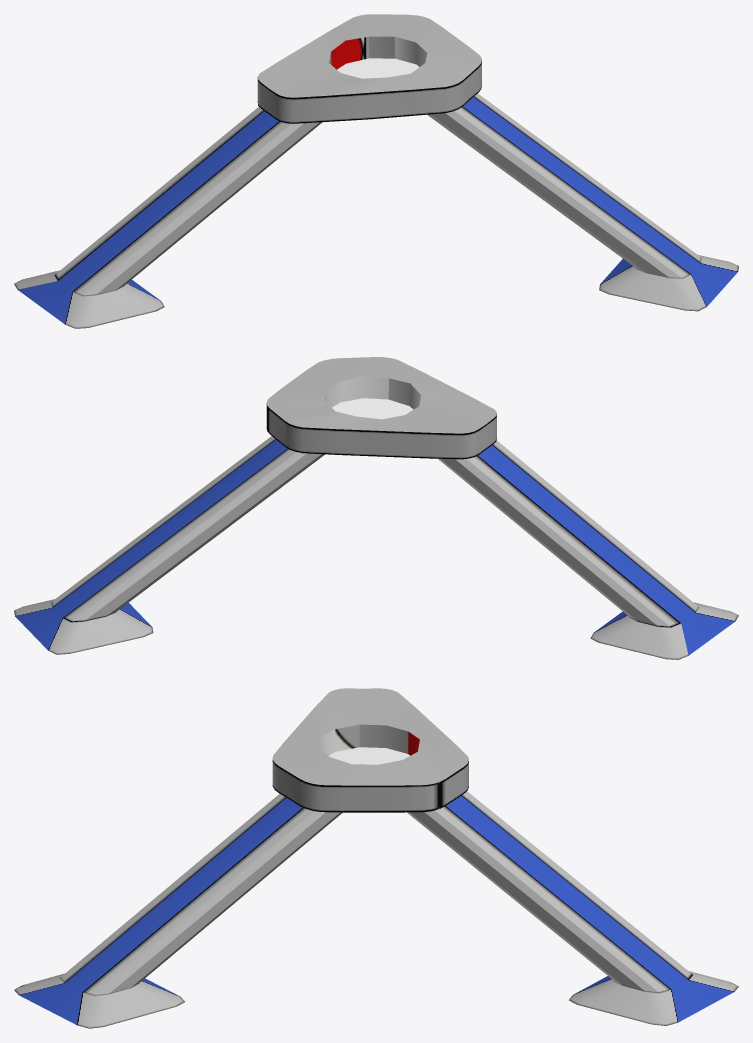
Rendered from FERNMinigunTripodBase.fbx.
3 renders of one model, top to bottom at view 1: azimuth 30°, elevation 25°; view 2: azimuth 150°, elevation 25°; view 3: azimuth 270°, elevation 25°, orthographic. The views are drawn at different scales.
Visible parts, largest first — view 1: FERNMinigunTripod; view 2: FERNMinigunTripod; view 3: FERNMinigunTripod.
Boxes of the visible parts, left/top/right/bottom form: FERNMinigunTripod: left=14, top=14, right=738, bottom=328; FERNMinigunTripod: left=14, top=357, right=738, bottom=659; FERNMinigunTripod: left=14, top=688, right=738, bottom=1028.
Size of the model in its own units: 25.97 by 7.28 by 27.83.
